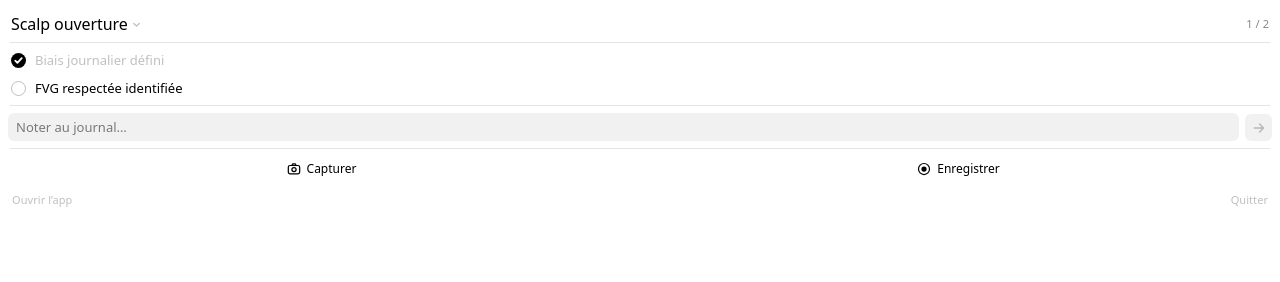
Test case: popover de la barre d'état › passe le changement de stratégie à la coquille plutôt que de le décider
Click the button "Scalp ouverture" at (76, 24), box [11, 14, 141, 34]
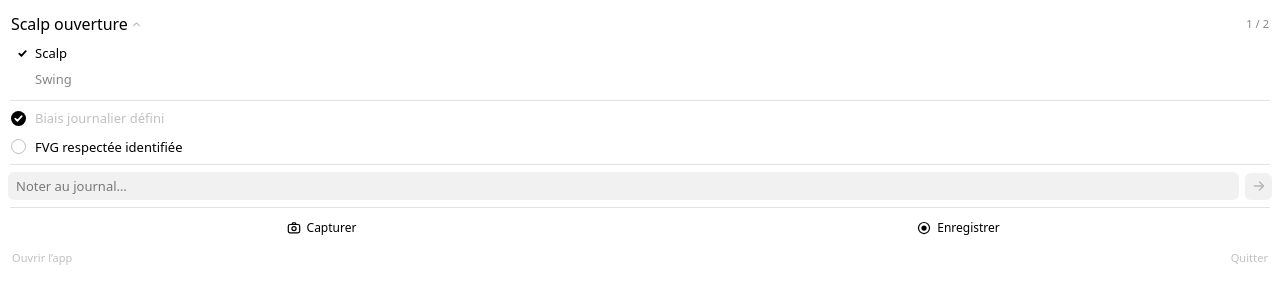
Click the button "Swing" at (53, 79), box [11, 66, 1269, 92]
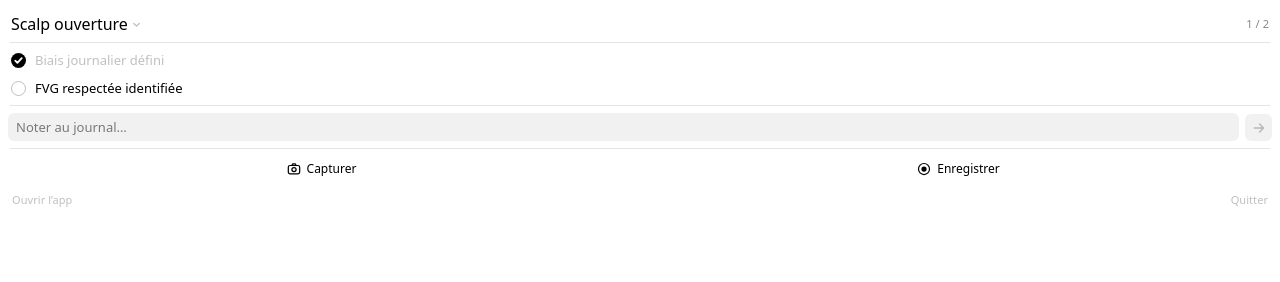
Now the button "Swing" is gone
